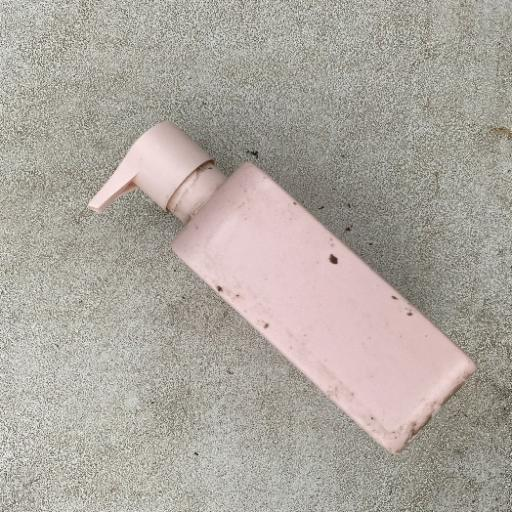Plastic: (85, 118, 478, 458)
